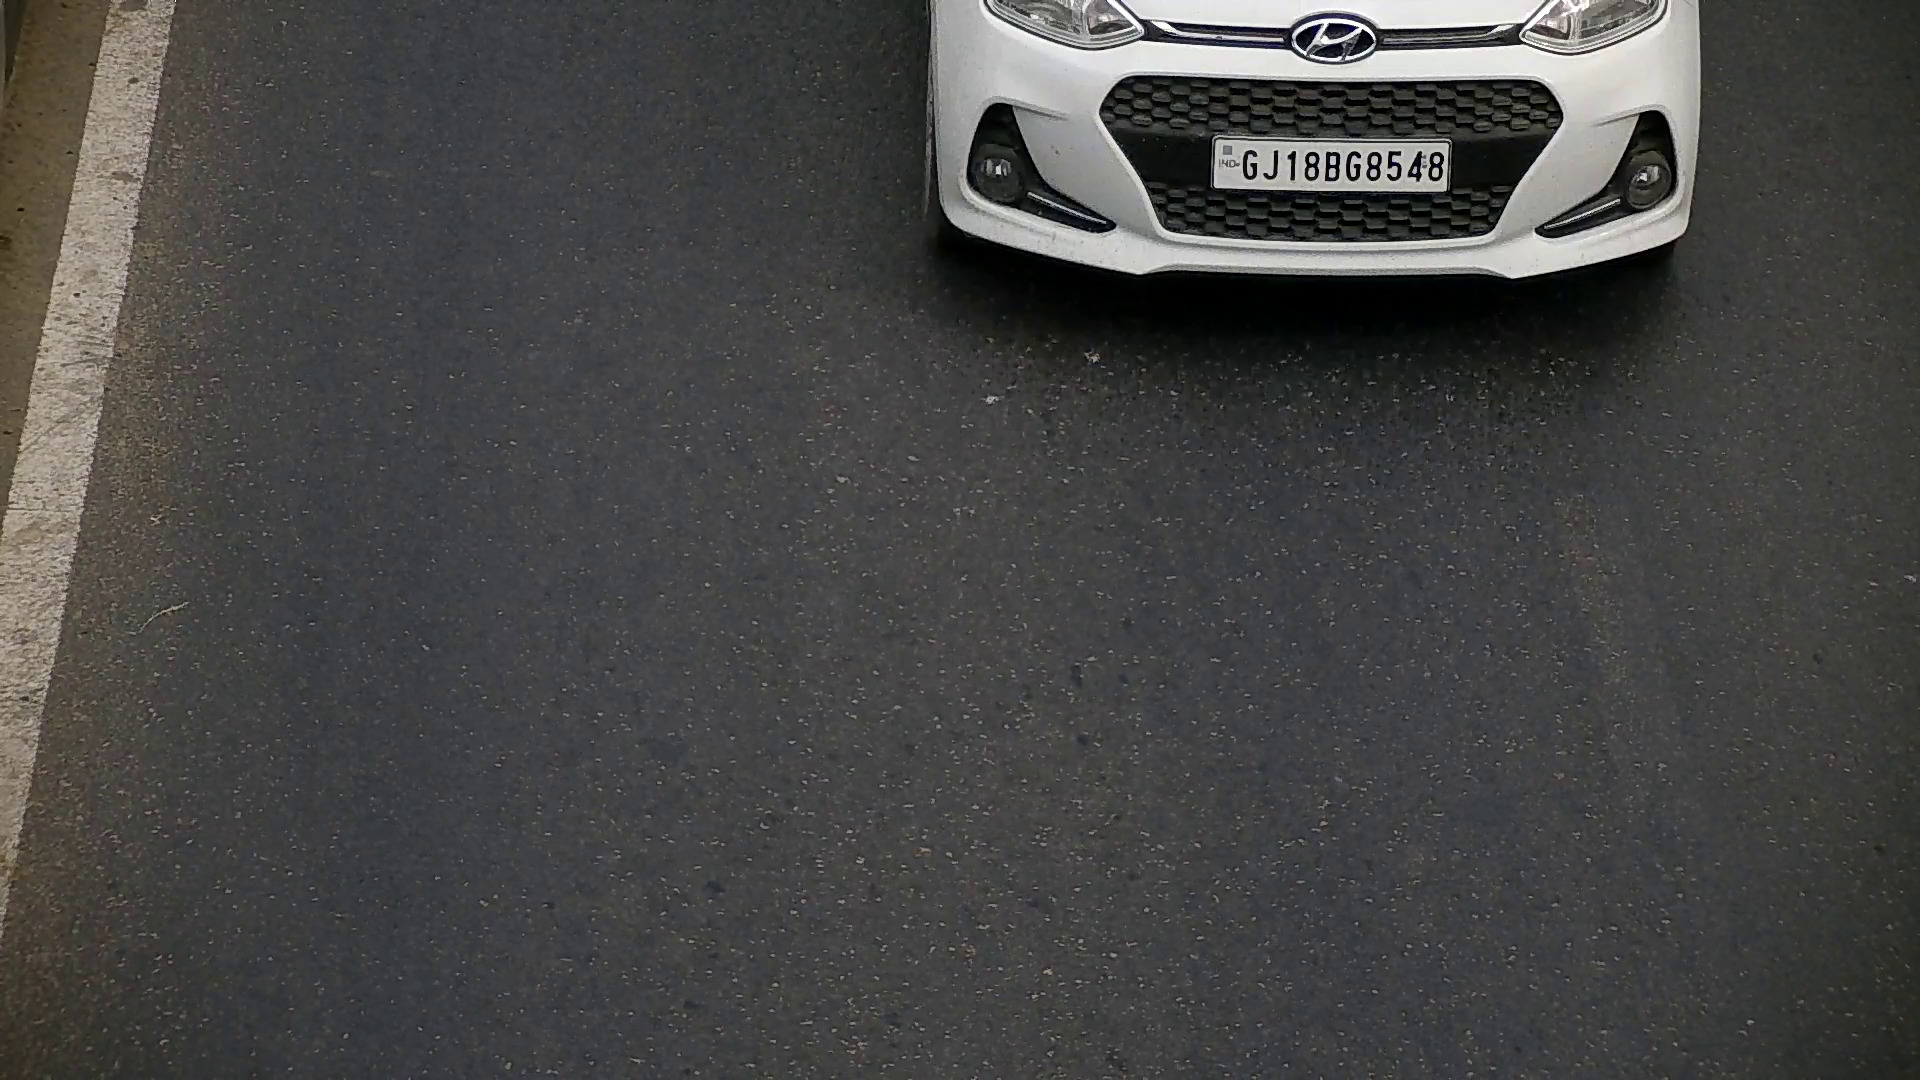numberplate: (1208, 137, 1457, 199)
